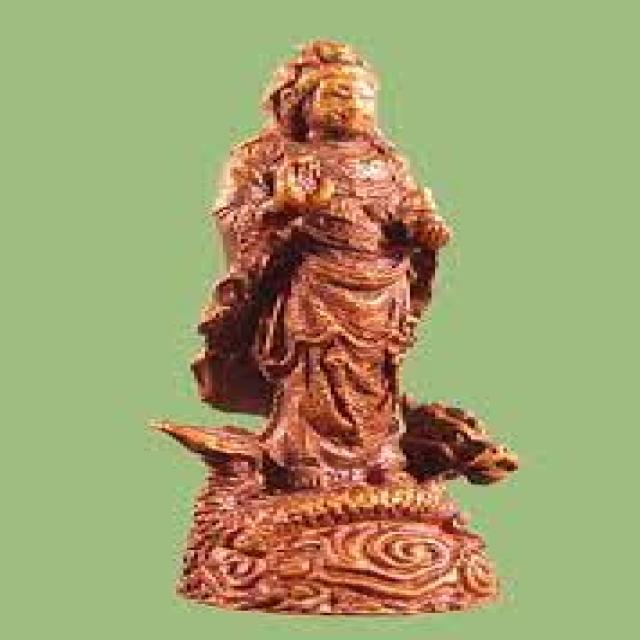Guan Yin: (205, 42, 454, 456)
